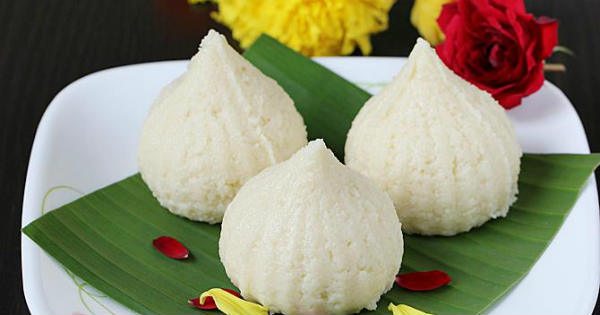modak: (327, 35, 543, 247), (217, 139, 391, 315), (161, 24, 318, 206)
